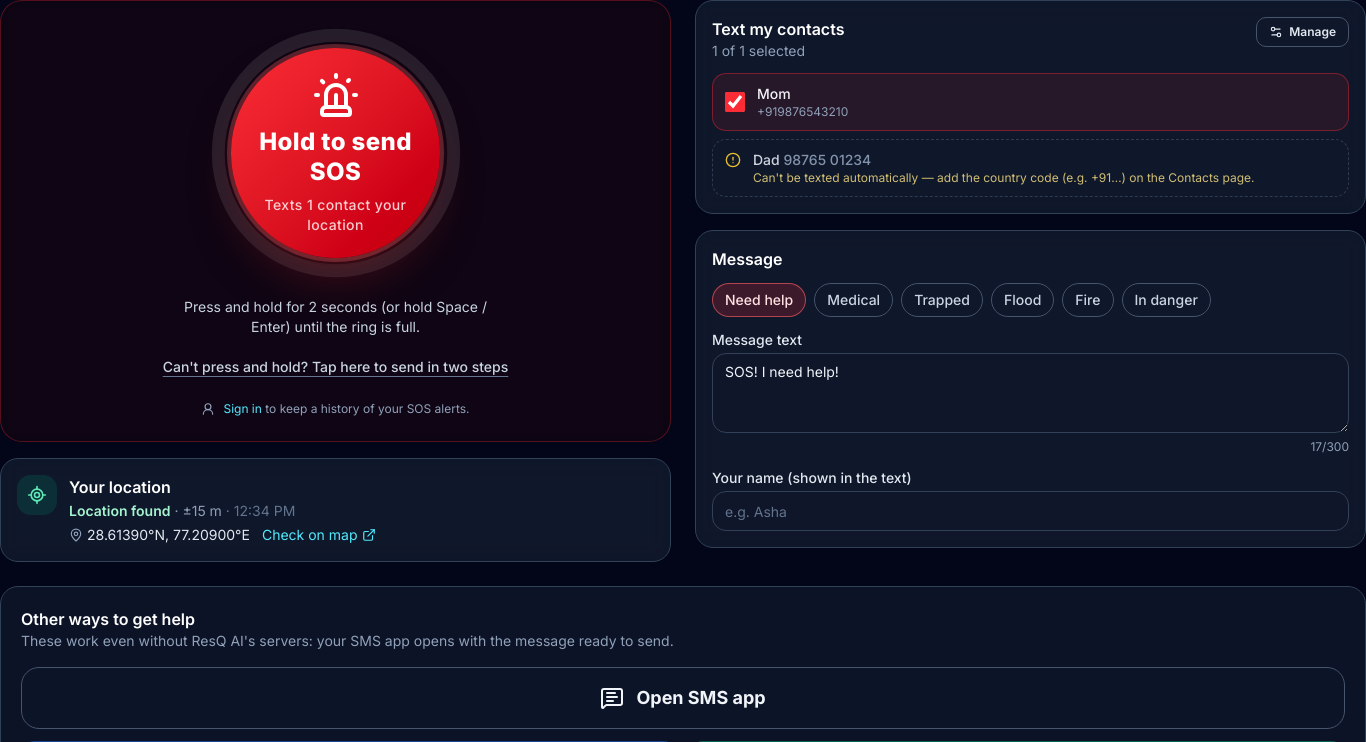
Test case: SOSView › skips the network entirely when the browser is offline
Check: the text "Location found" is shown, box [69,502,170,519]
What coordinates should you click on to do the following:
click the button "Can't press and hold? Tap here to send in two steps"
I would click on:
 (336, 367)
Its box is [155,353,516,381].
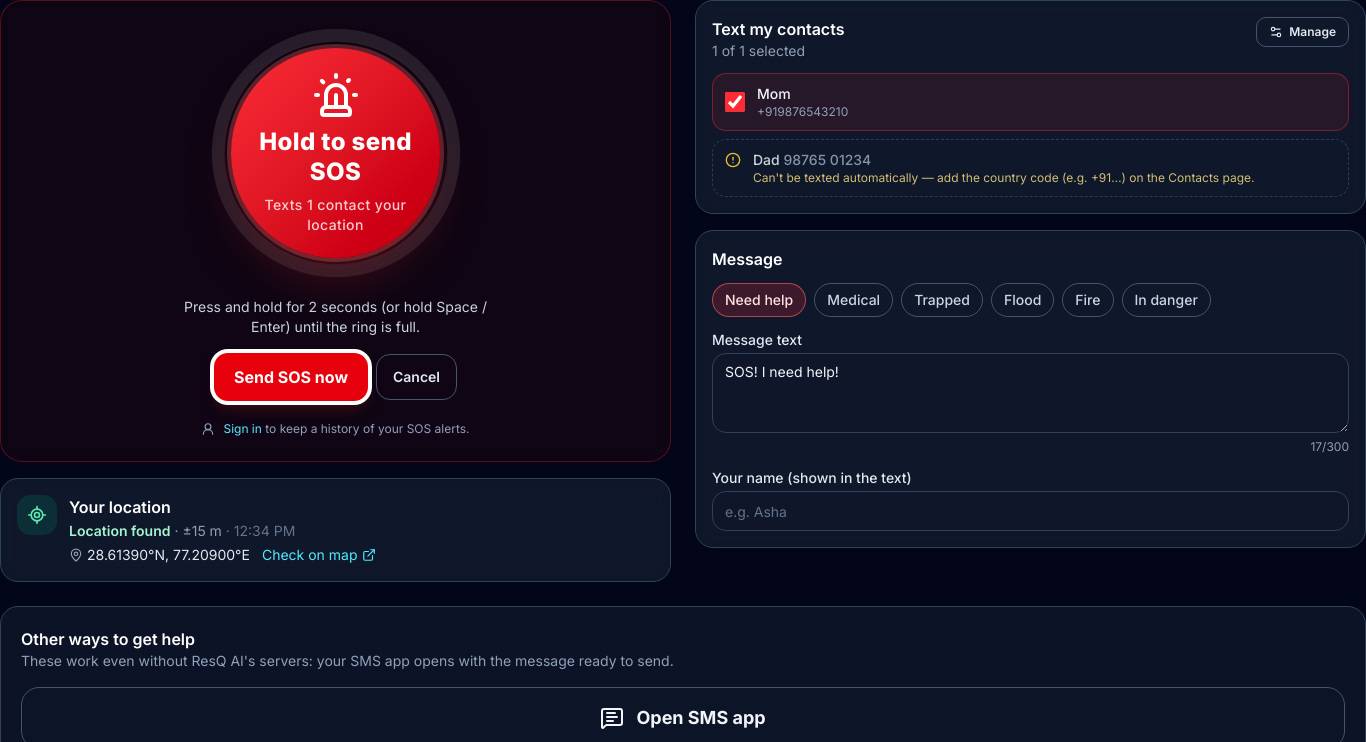
What coordinates should you click on to do the following:
click the button "Send SOS now"
I would click on:
 (291, 377)
Its box is [214,353,368,401].
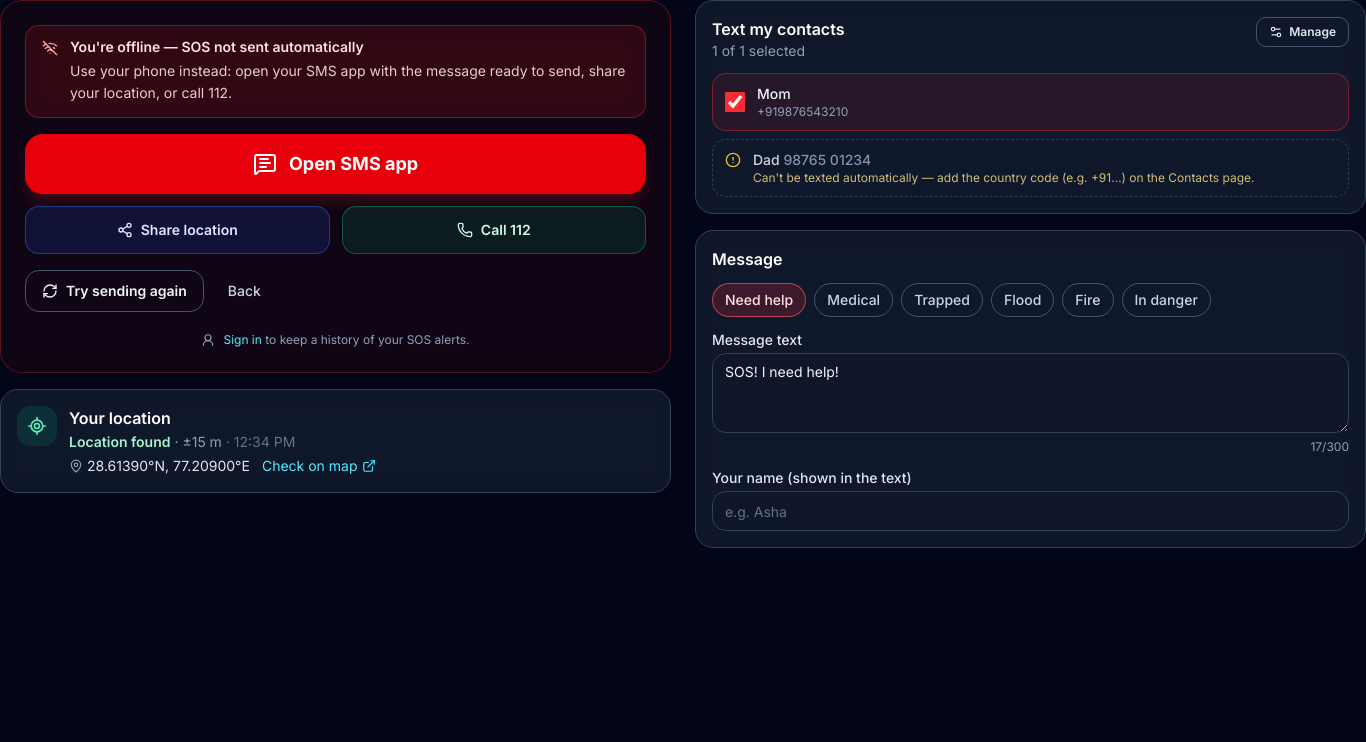
Check: the text "You're offline — SOS not sent automatically" is shown, box [70,38,364,55]
